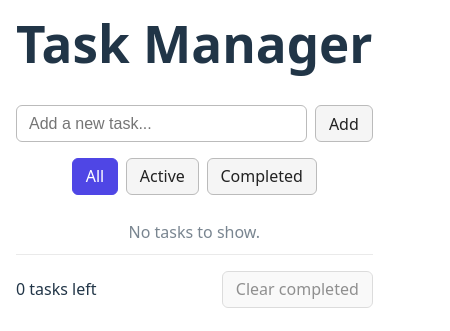
Test case: App › adds, edits and deletes a task
Type "First task" into the field labelled "new task".
click(162, 124); type("First task")  # box top-left (16, 105), bottom-right (307, 142)
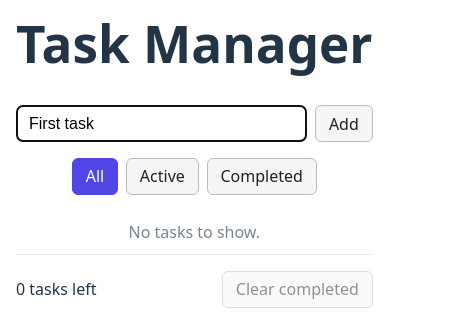
Click the button "Add".
click(344, 124)  # box top-left (315, 105), bottom-right (373, 142)
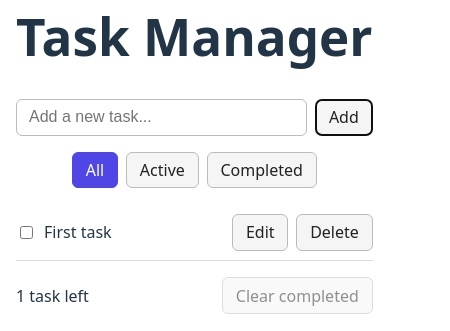
Check: the text "First task" is shown, box top-left (44, 221), bottom-right (112, 243)
Check: the text "1 task left" is shown, box top-left (16, 284), bottom-right (89, 308)
Click the button "Edit".
click(260, 232)  # box top-left (232, 214), bottom-right (288, 251)
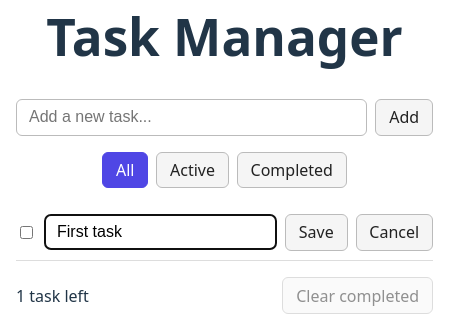
Replace the text in the field named "Edit task" with "Renamed" at (160, 232), box top-left (44, 214), bottom-right (277, 250)
Then press Enter
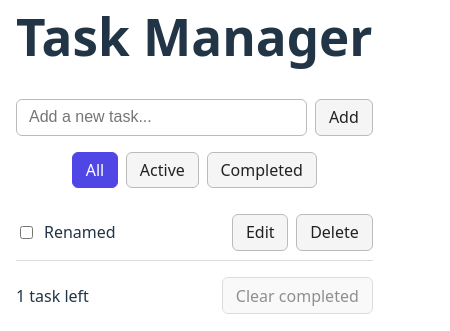
Check: the text "Renamed" is shown, box top-left (44, 221), bottom-right (116, 243)
Click the button "Delete".
click(334, 232)  # box top-left (296, 214), bottom-right (373, 251)
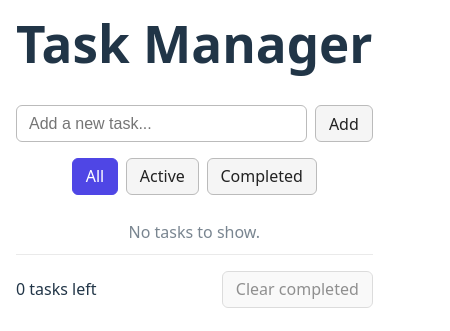
Check: the text "Renamed" is gone
